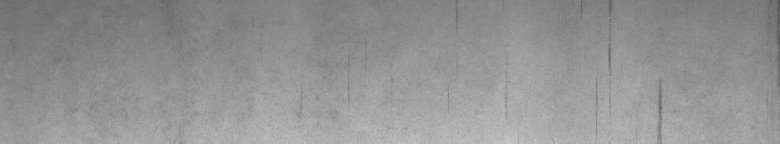ka: (581, 4, 664, 136)
